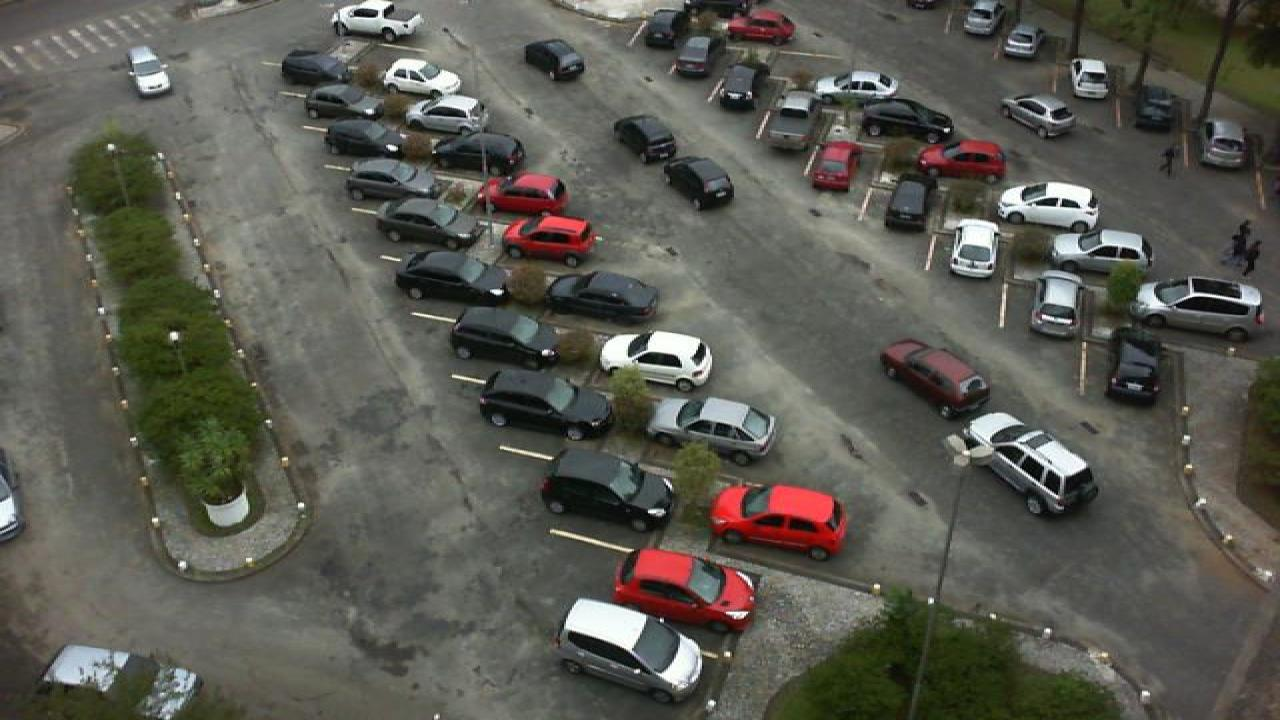Car: (940, 411, 1102, 518), (550, 598, 706, 706), (610, 547, 760, 632), (32, 644, 198, 720), (538, 447, 678, 533), (708, 482, 848, 562), (478, 368, 616, 441), (644, 395, 784, 466), (878, 338, 996, 420), (1130, 276, 1266, 340), (448, 305, 564, 370), (396, 249, 518, 308), (598, 330, 714, 391), (544, 270, 662, 325), (374, 198, 484, 251), (498, 215, 604, 268), (998, 180, 1104, 232), (1050, 231, 1158, 281), (1106, 325, 1164, 405), (430, 132, 526, 178), (858, 98, 956, 143), (1028, 270, 1088, 340), (662, 154, 738, 209), (332, 0, 426, 43), (346, 158, 442, 200), (916, 140, 1012, 182), (484, 173, 572, 217), (404, 93, 492, 134), (320, 117, 404, 159), (1000, 94, 1080, 138), (380, 57, 466, 97), (612, 114, 678, 166), (302, 82, 384, 122), (880, 176, 934, 234), (764, 92, 816, 152), (280, 47, 356, 88), (948, 219, 1000, 278), (810, 140, 864, 192), (724, 9, 800, 45), (524, 37, 586, 80), (124, 45, 174, 98), (816, 70, 900, 101), (1198, 118, 1248, 169), (714, 63, 760, 111), (1068, 56, 1112, 102), (670, 36, 714, 80), (998, 24, 1046, 63), (960, 0, 1006, 38), (640, 8, 680, 48)
